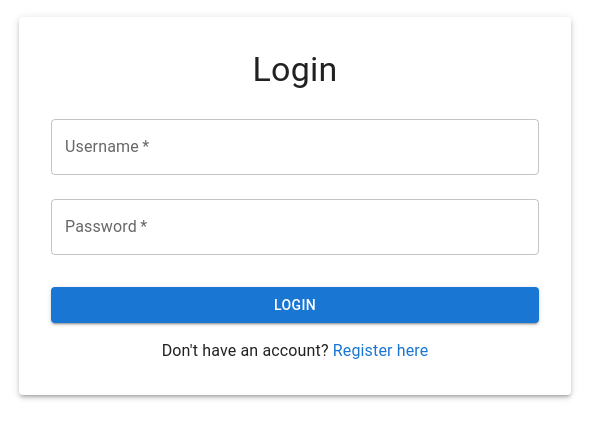
Test: Login Component › handles network error
Fill out the form
Type "testuser" into the field labelled "Username *" at (295, 147), box [51, 119, 539, 175]
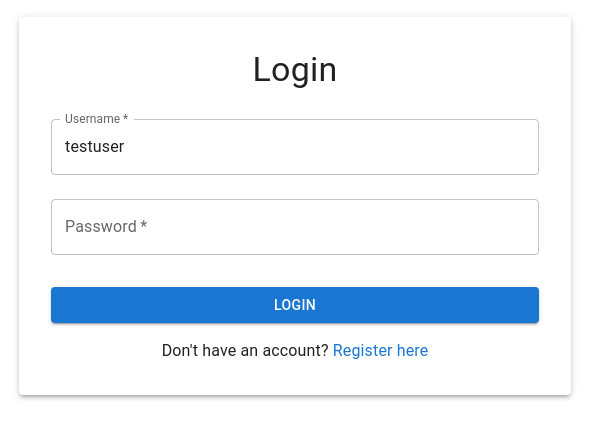
Type "password123" into the password field labelled "Password *" at (295, 227), box [51, 199, 539, 255]
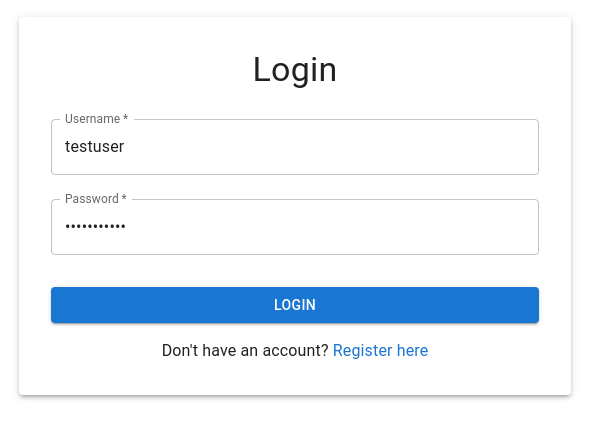
Submit the form
Click the button "LOGIN" at (295, 305), box [51, 287, 539, 323]
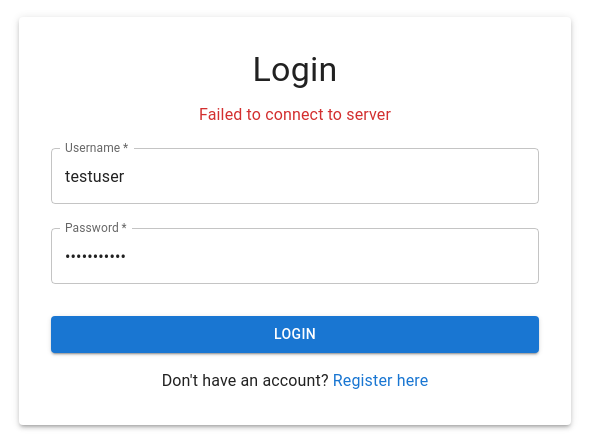
Expected: the text "Failed to connect to server" is shown, [199, 105, 391, 124]
